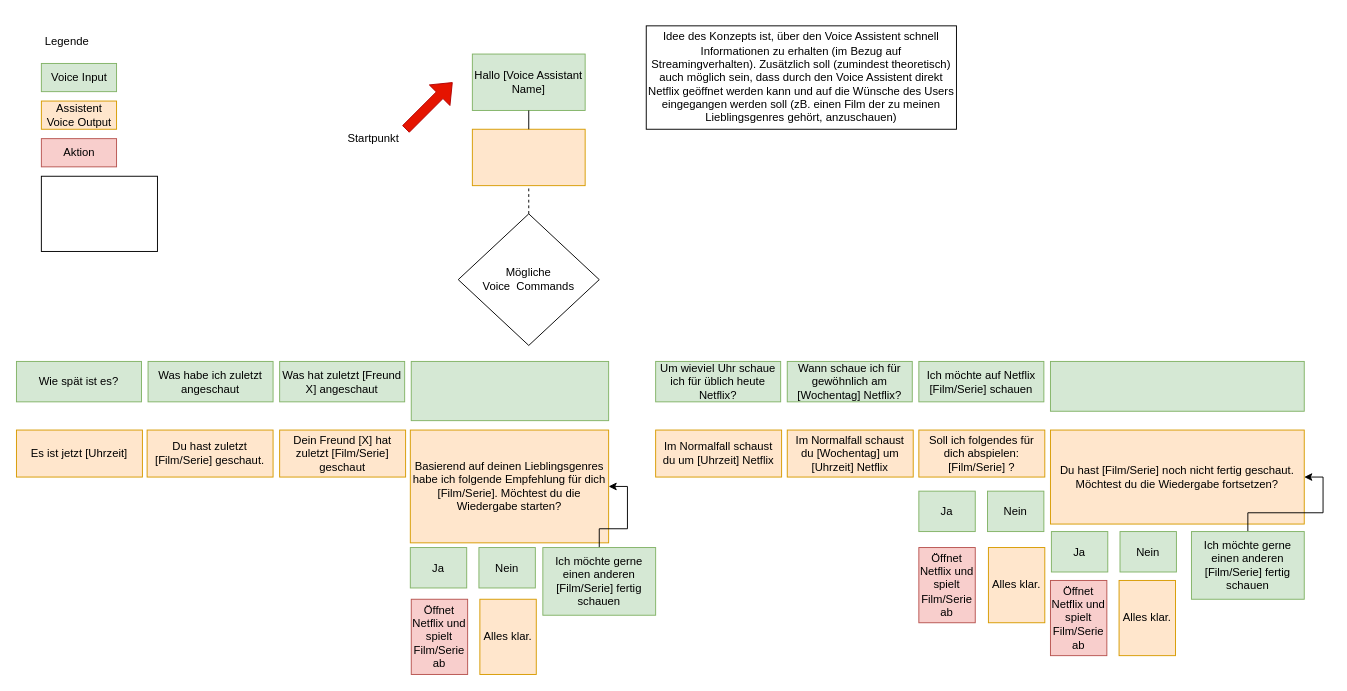
Some shapes in this 1347 by 691 pixel diagram are drawn without their labels. The shapes that lost their labels are listed below. From the top down, each one's centre as x and y in pixels, then its label:
the point at 528,157: Hallo [User], Was möchtest du wissen?
the point at 98,213: [Eckige Klammern] stehen für variable Commands und Antworten
the point at 509,390: Schlage mir einen [Film/Serie] basierend auf meinen Lieblingsgenres vor
the point at 1177,385: Welche [Film/Serie] habe ich noch nicht fertig geschaut?
